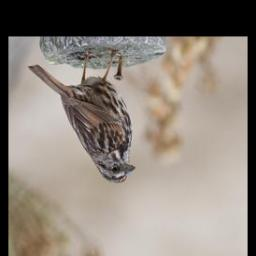Sparrow: (26, 49, 136, 187)
